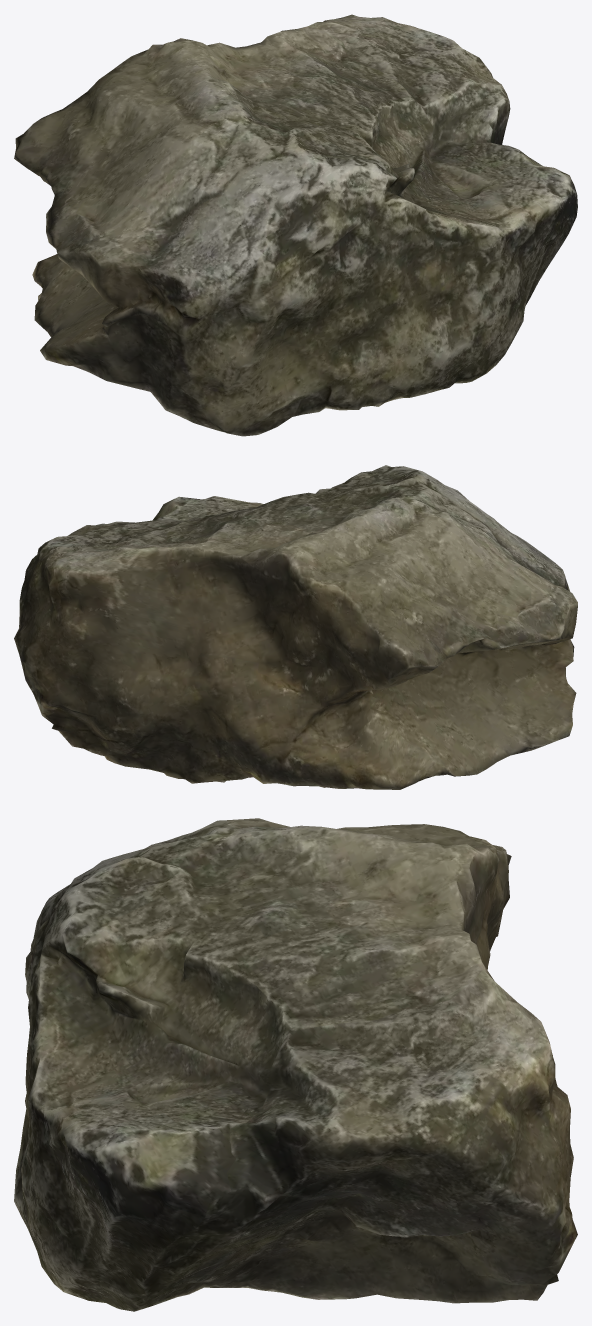
Rendered from moss-rock-12.glb.
3 renders of one model, top to bottom at view 1: azimuth 30°, elevation 25°; view 2: azimuth 150°, elevation 25°; view 3: azimuth 270°, elevation 25°, orthographic. The views are drawn at different scales.
Parts seen in each view (by area): view 1: Object_2; view 2: Object_2; view 3: Object_2.
Part boxes in pixels (x1,y1,x2,y2): Object_2: [14, 14, 577, 436]; Object_2: [14, 465, 577, 789]; Object_2: [14, 818, 577, 1311].
Bounding box in the file's own units: 2.97 × 1.54 × 2.18.
Materials: 1 (1 with a texture image).
